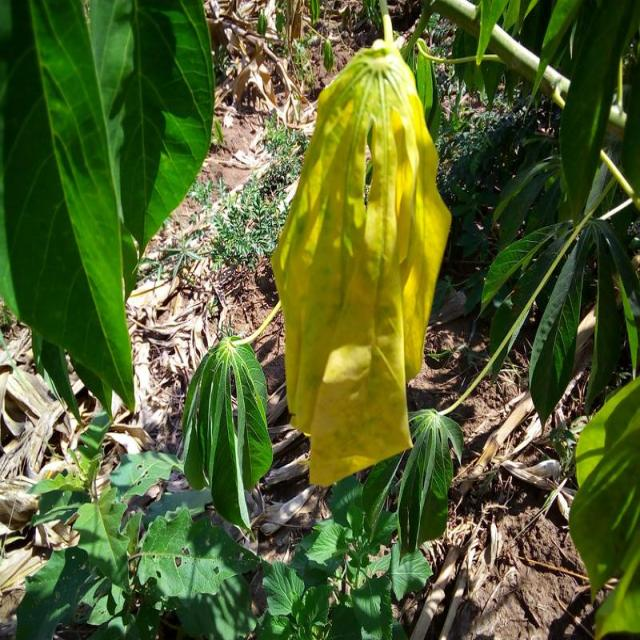cassava leaf: (0, 0, 215, 421), (269, 38, 452, 486), (180, 333, 273, 533)
